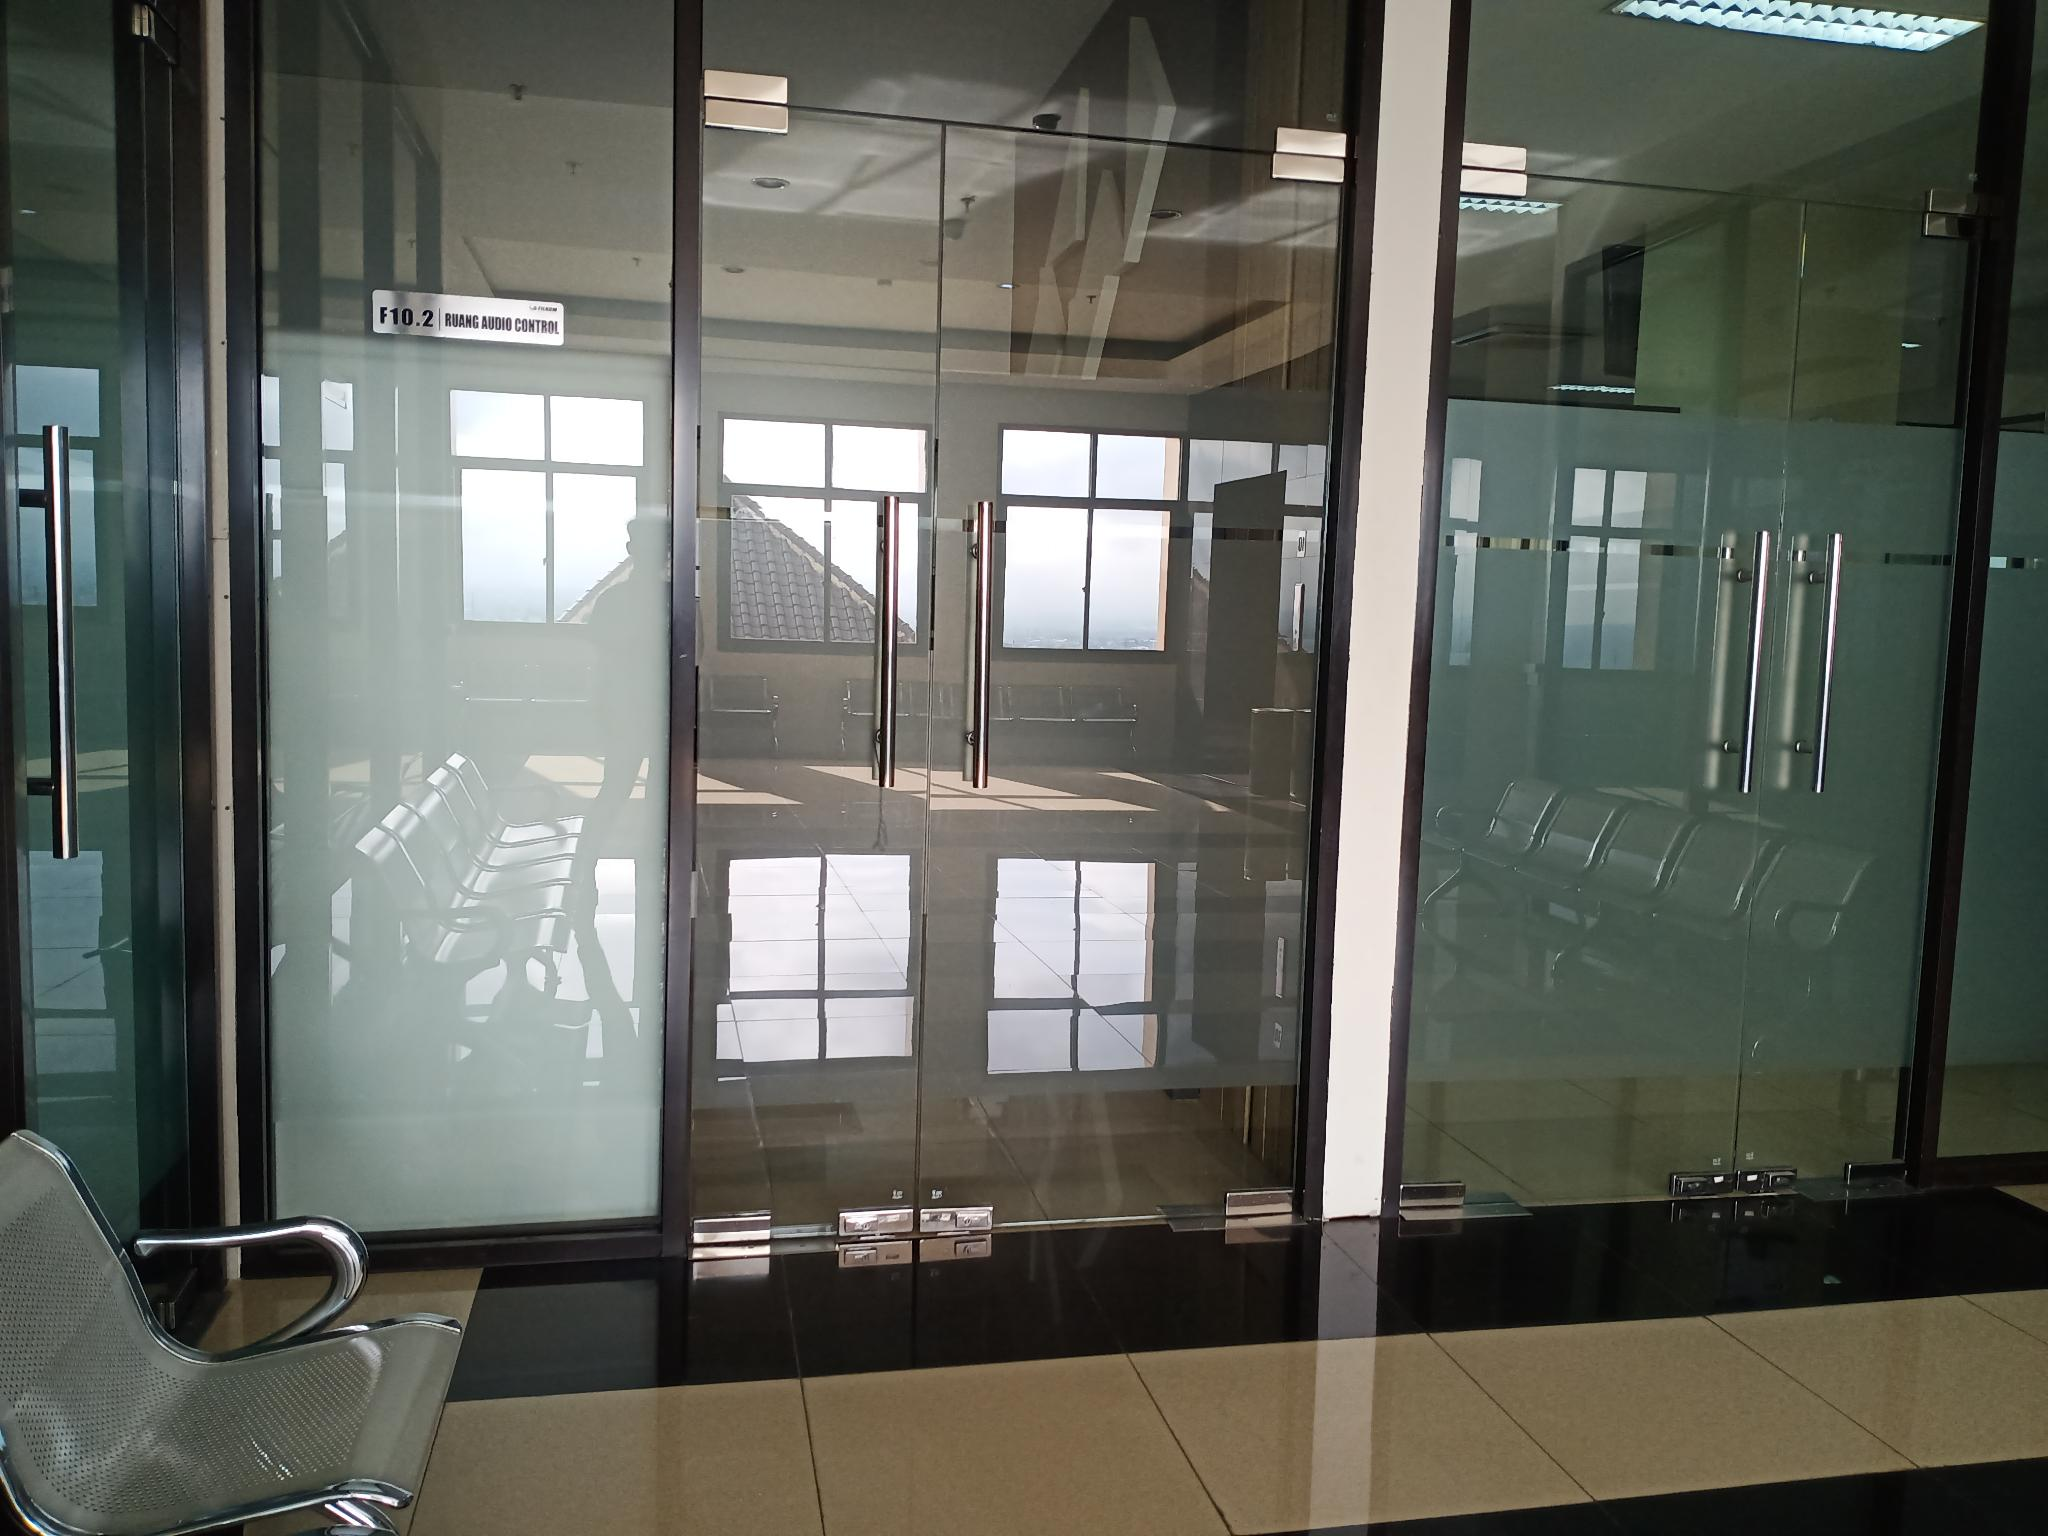plate: (369, 287, 568, 349)
